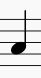note: (10, 8, 28, 70)
